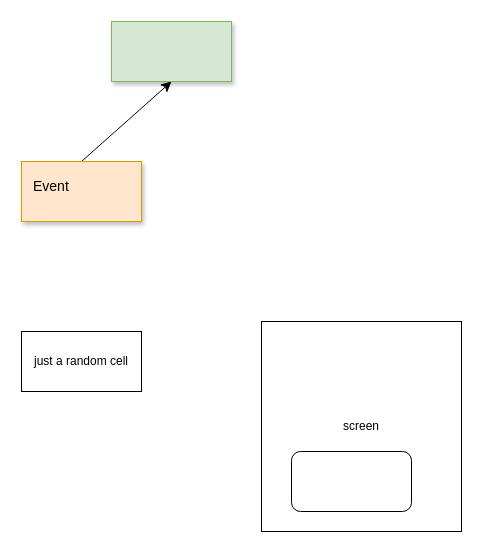
This 479x549 diagram has some shape labels left out. Here are the shapes that lost their labels. From the top down, the centre of each, then its label:
At (172,52): "Read Model".
At (351,481): "grouped".
